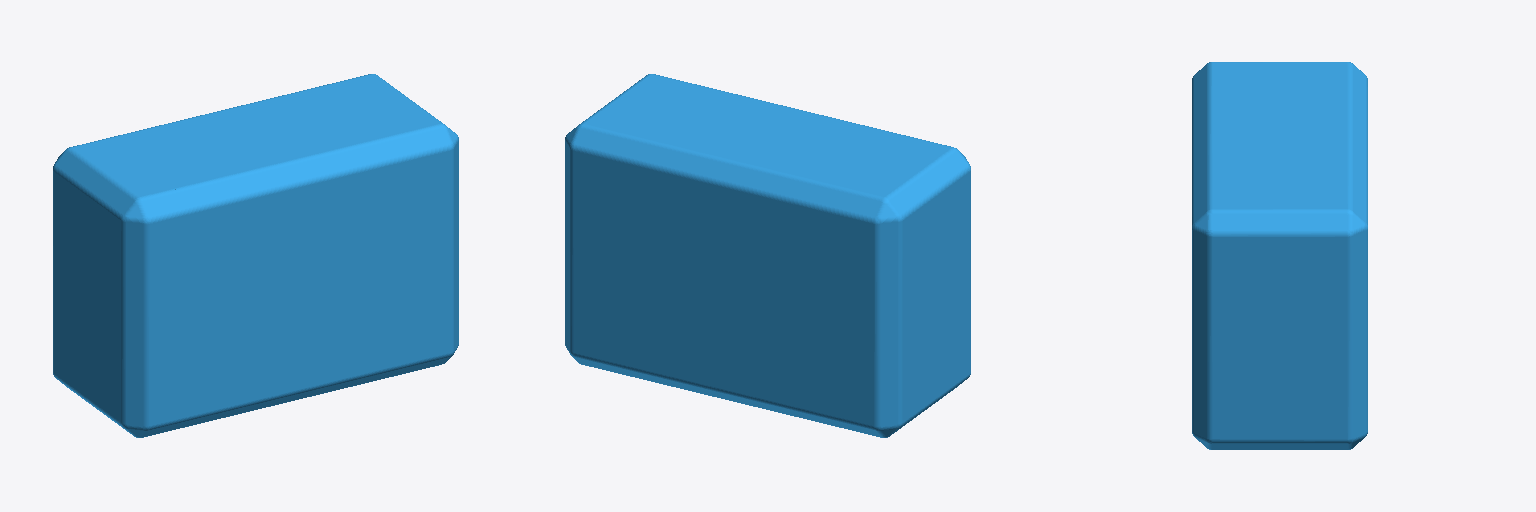
The model's file is yoga_block_02.obj.
The picture shows the model from 3 angles: view 1: azimuth 30°, elevation 25°; view 2: azimuth 150°, elevation 25°; view 3: azimuth 270°, elevation 25°; orthographic projection.
Parts seen in each view (by area): view 1: mesh13, mesh88, mesh128, mesh74, mesh76, mesh16, mesh86, mesh34, mesh137, mesh11, mesh12, mesh32 (+3 smaller); view 2: mesh115, mesh88, mesh128, mesh133, mesh139, mesh117, mesh92, mesh84, mesh137, mesh118, mesh102, mesh82 (+3 smaller); view 3: mesh39, mesh88, mesh32, mesh82, mesh78, mesh74, mesh133, mesh36, mesh44, mesh86, mesh92, mesh61 (+3 smaller).
Part boxes in pixels (x1,y1,x2,y2): mesh13: (150,151,449,425); mesh88: (73,75,438,196); mesh128: (54,172,120,421); mesh74: (142,128,448,216); mesh76: (126,222,142,426); mesh16: (149,144,449,223); mesh86: (140,124,441,200); mesh34: (143,357,448,436); mesh137: (56,152,133,213); mesh11: (143,224,149,425); mesh12: (150,353,449,429); mesh32: (454,141,458,350); mesh115: (574,151,873,425); mesh88: (585,75,950,196); mesh128: (903,172,969,421); mesh133: (575,128,881,216); mesh139: (881,222,897,426); mesh117: (574,144,874,223); mesh92: (582,124,883,200); mesh84: (575,357,880,436); mesh137: (890,152,967,213); mesh118: (874,224,880,425); mesh102: (574,353,873,429); mesh82: (565,141,569,350); mesh39: (1213,237,1346,438); mesh88: (1213,63,1346,208); mesh32: (1194,231,1206,437); mesh82: (1353,231,1365,437); mesh78: (1212,214,1347,230); mesh74: (1194,65,1206,221); mesh133: (1353,65,1365,221); mesh36: (1207,237,1212,438); mesh44: (1347,237,1352,438); mesh86: (1207,63,1212,210); mesh92: (1347,63,1352,210); mesh61: (1212,444,1347,449).
Size of the model in its own units: 0.22 by 0.15 by 0.1.